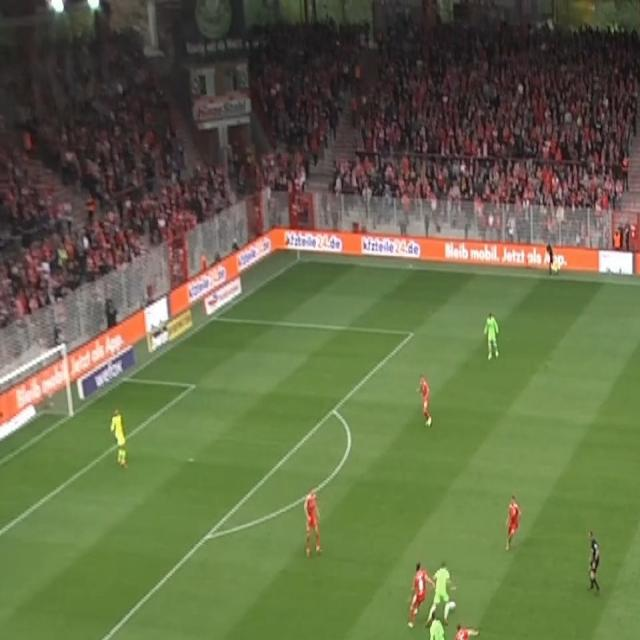ball: (448, 599, 456, 614)
